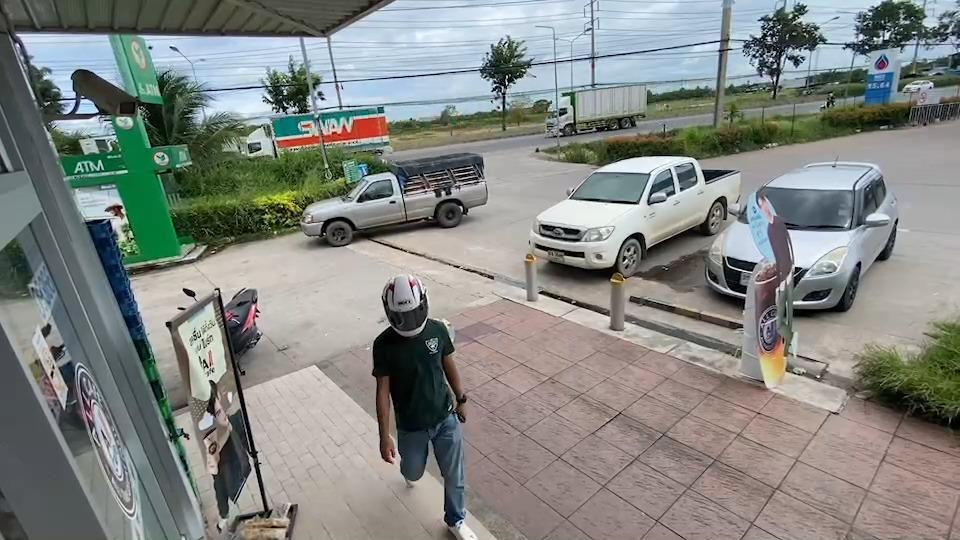criminal: (369, 274, 481, 540)
